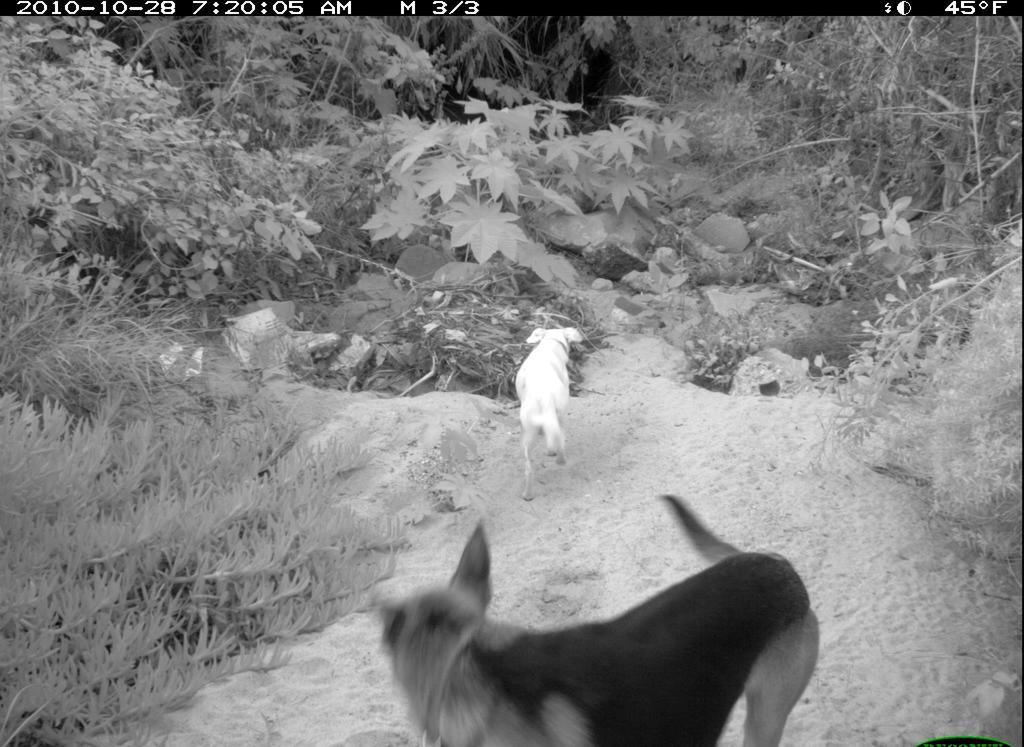dog: (376, 493, 822, 747), (502, 309, 596, 492)
